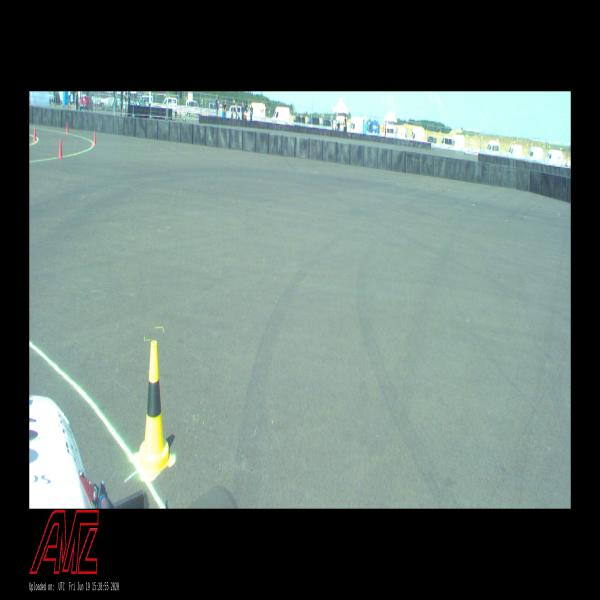unknown_cone: (58, 138, 63, 158), (32, 126, 36, 142), (93, 130, 96, 146), (66, 122, 68, 134)
yellow_cone: (134, 341, 173, 481)
